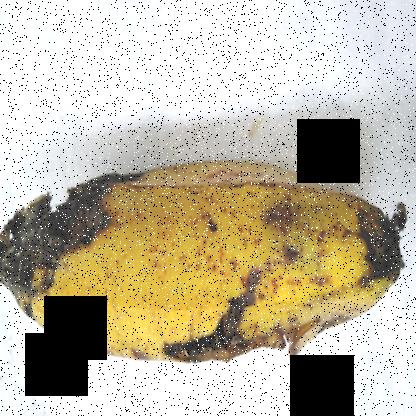rotten: (0, 105, 160, 326), (132, 270, 324, 396), (261, 155, 415, 299)
